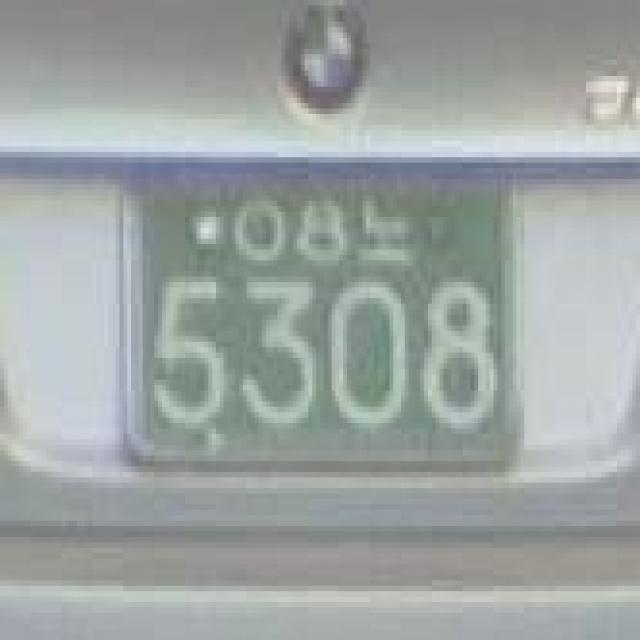illegal_plate: (104, 152, 530, 502)
